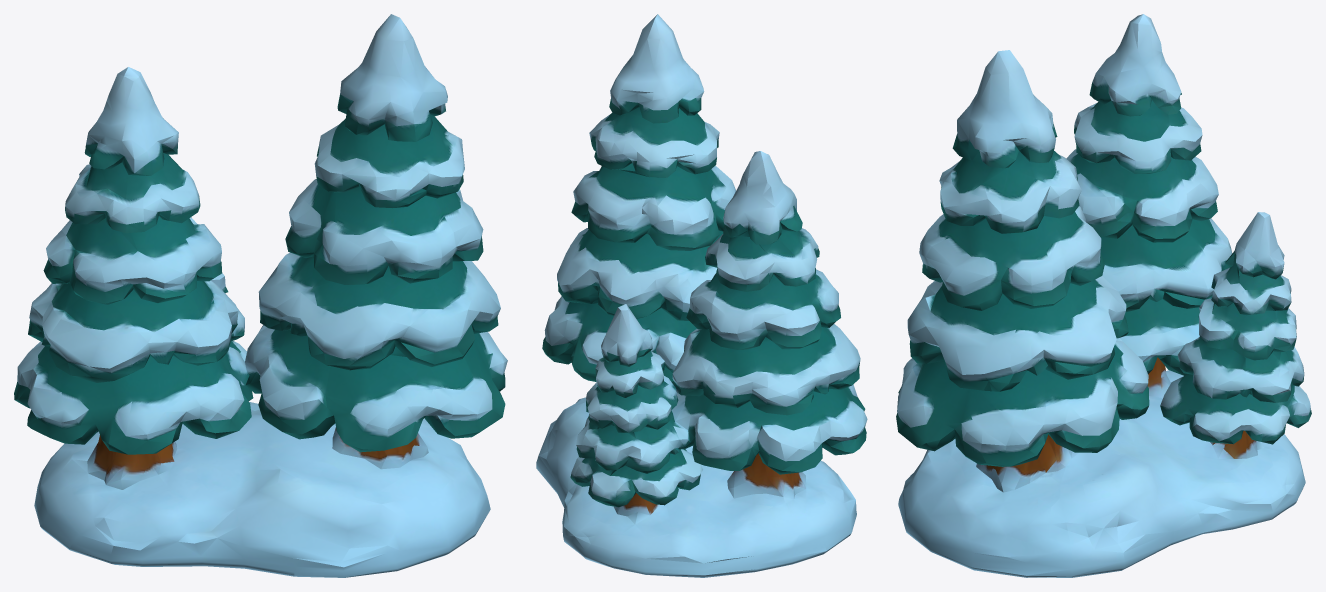
Rendered from pine_cluster.glb.
3 renders of one model, left to right at view 1: azimuth 30°, elevation 25°; view 2: azimuth 150°, elevation 25°; view 3: azimuth 270°, elevation 25°, orthographic. The views are drawn at different scales.
Visible parts, largest first — view 1: SkyRally_prop_snow_pine_cluster; view 2: SkyRally_prop_snow_pine_cluster; view 3: SkyRally_prop_snow_pine_cluster.
Part boxes in pixels (x1,y1,x2,y2): SkyRally_prop_snow_pine_cluster: [14, 14, 507, 577]; SkyRally_prop_snow_pine_cluster: [536, 14, 867, 577]; SkyRally_prop_snow_pine_cluster: [896, 14, 1311, 577].
Size of the model in its own units: 25.07 by 30 by 23.18.
1 material, 1 textured.
